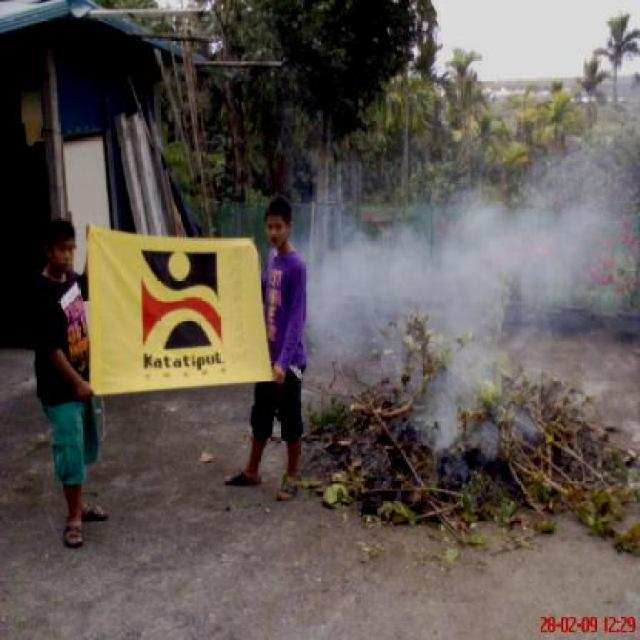Smoke: (295, 71, 640, 452)
